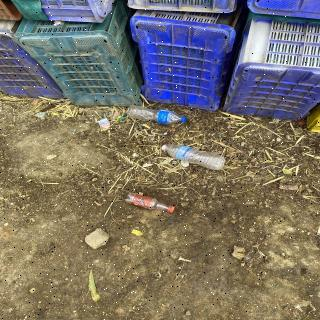Plastic-bottle: (158, 142, 228, 174), (126, 102, 190, 129), (122, 191, 179, 218)
